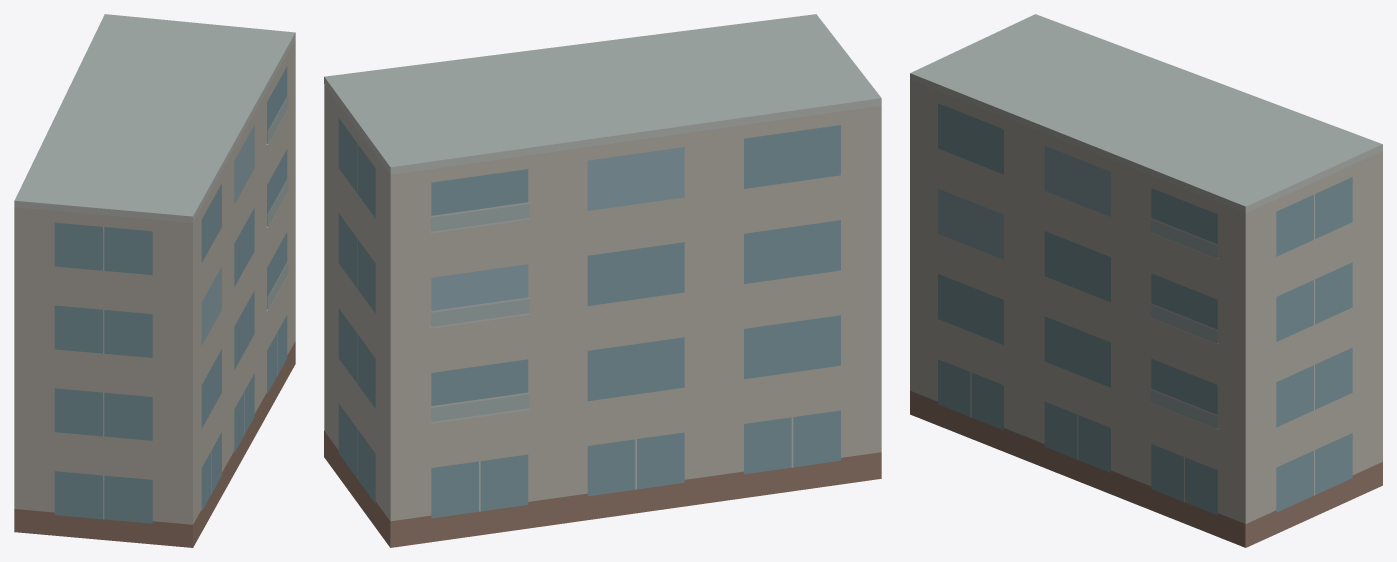
The model's file is survey-upis-32889909.glb.
3 renders of one model, left to right at view 1: azimuth 30°, elevation 25°; view 2: azimuth 150°, elevation 25°; view 3: azimuth 270°, elevation 25°, orthographic. The views are drawn at different scales.
Parts seen in each view (by area): view 1: survey-upis-32889909.tmp; view 2: survey-upis-32889909.tmp; view 3: survey-upis-32889909.tmp.
Boxes of the visible parts, <box> form: survey-upis-32889909.tmp: <box>14,14,295,547</box>; survey-upis-32889909.tmp: <box>324,14,881,547</box>; survey-upis-32889909.tmp: <box>910,14,1382,547</box>.
Bounding box in the file's own units: 15.14 × 12.5 × 15.7.
